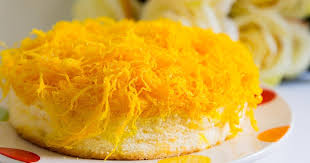foitong: (10, 22, 262, 111)
